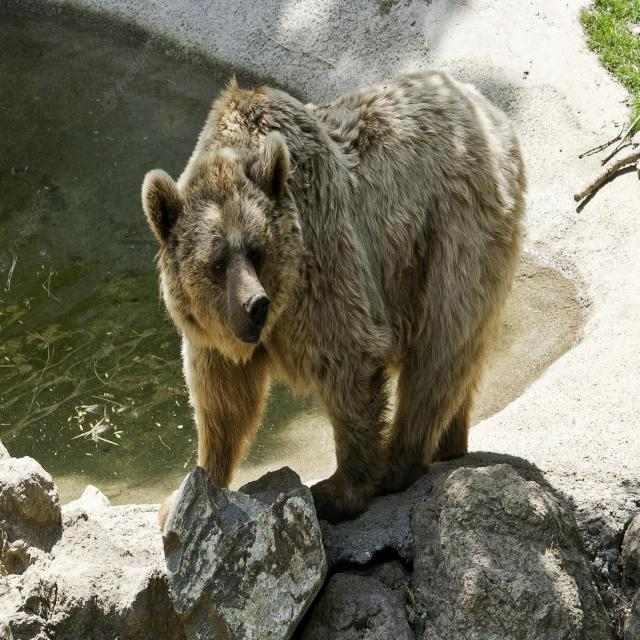Bear: (140, 70, 529, 524)
